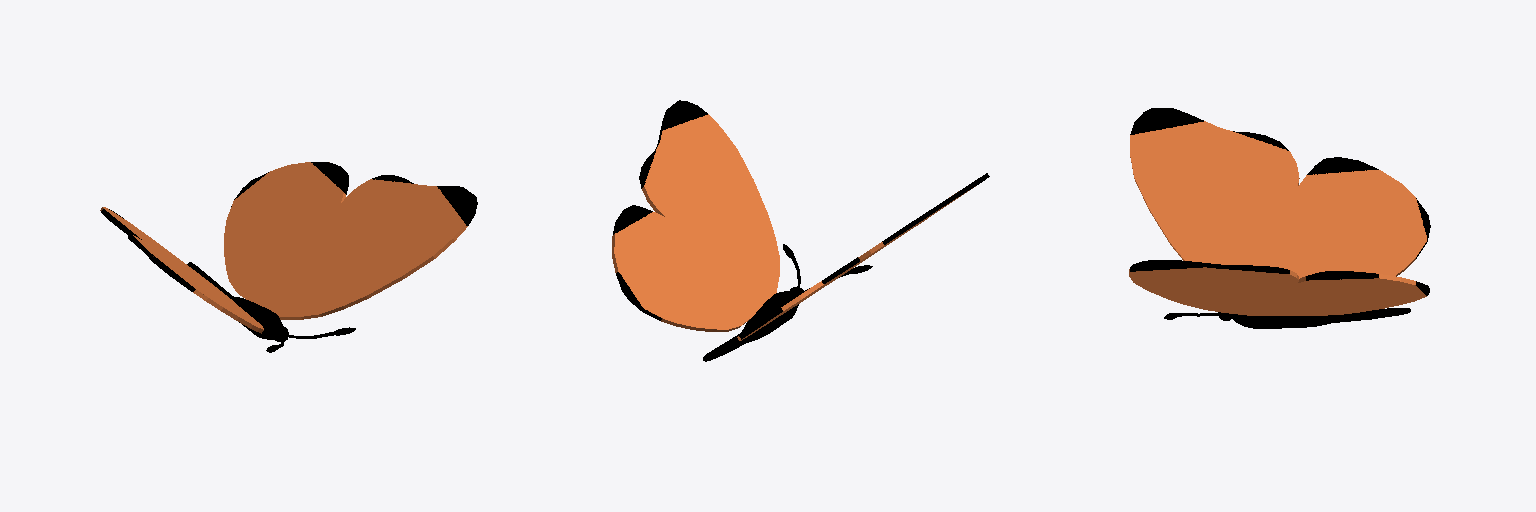
The picture shows the model from 3 angles: view 1: azimuth 30°, elevation 25°; view 2: azimuth 150°, elevation 25°; view 3: azimuth 270°, elevation 25°; orthographic projection.
Visible parts, largest first — view 1: Butterfly_orange; view 2: Butterfly_orange; view 3: Butterfly_orange.
Boxes of the visible parts, x1=… form: Butterfly_orange: x1=100, y1=162, x2=477, y2=352; Butterfly_orange: x1=612, y1=100, x2=989, y2=361; Butterfly_orange: x1=1129, y1=108, x2=1430, y2=328.
Bounding box in the file's own units: 3.15 × 1.41 × 2.63.
Materials: 1 (1 with a texture image).